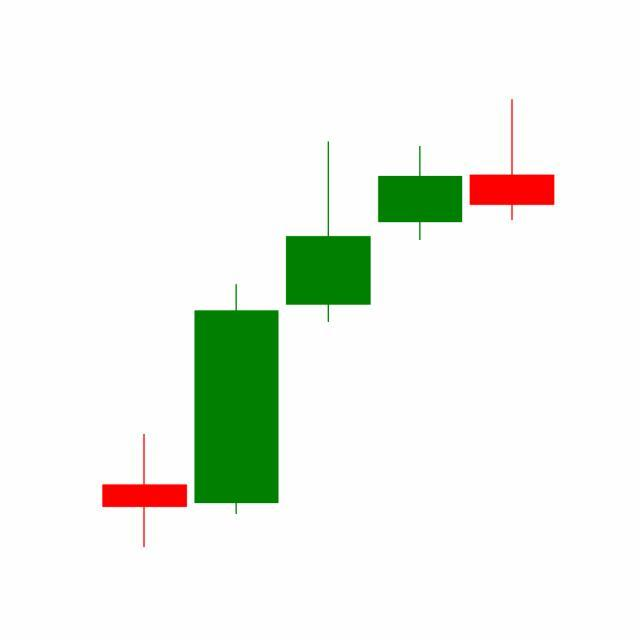Advance Block: (190, 138, 467, 519)
